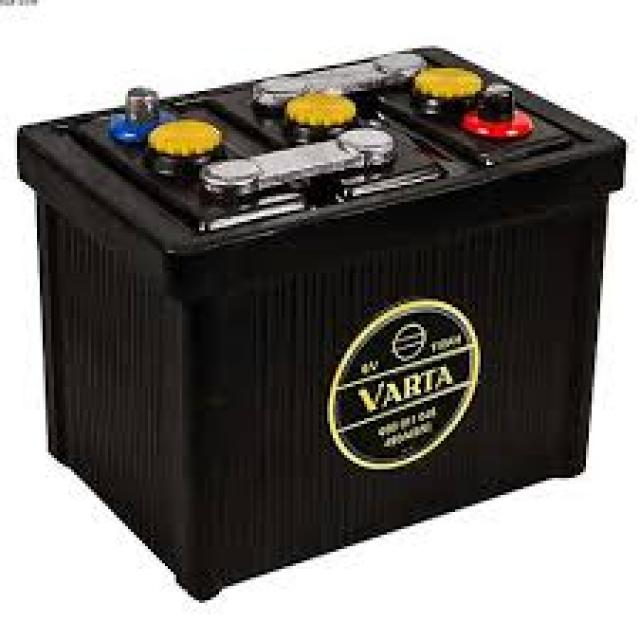non-organic waste: (10, 40, 628, 590)
